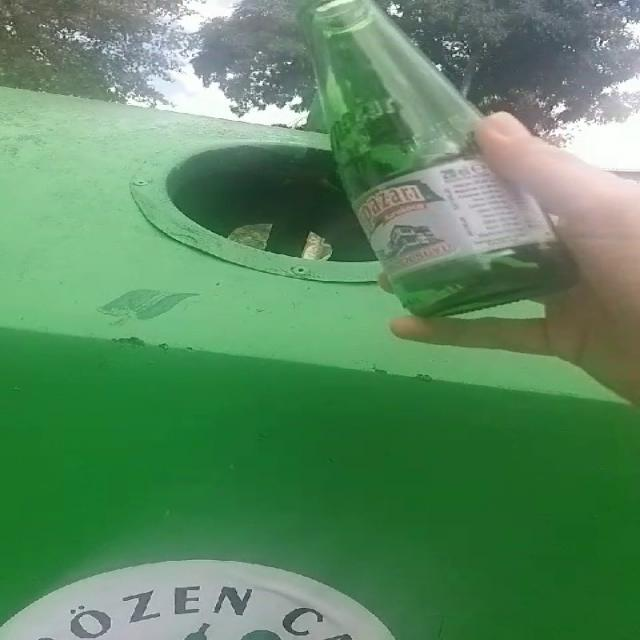glass: (300, 0, 573, 316)
